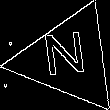N_S: (44, 31, 93, 86)
